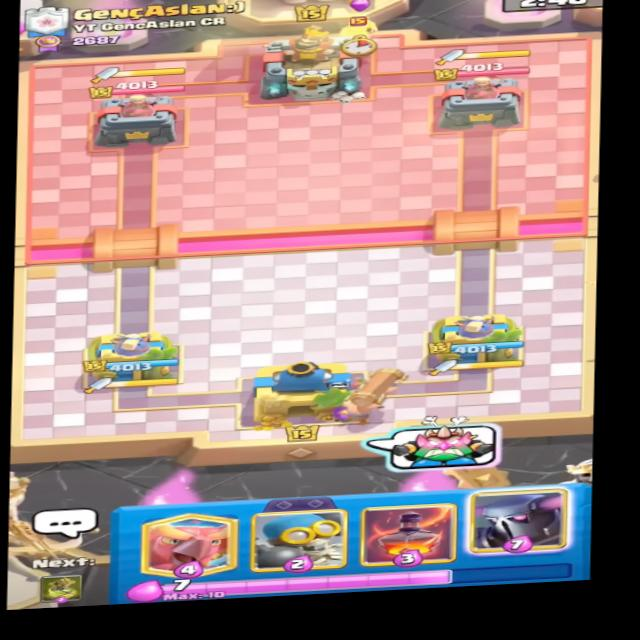wizard: (334, 12, 388, 48)
